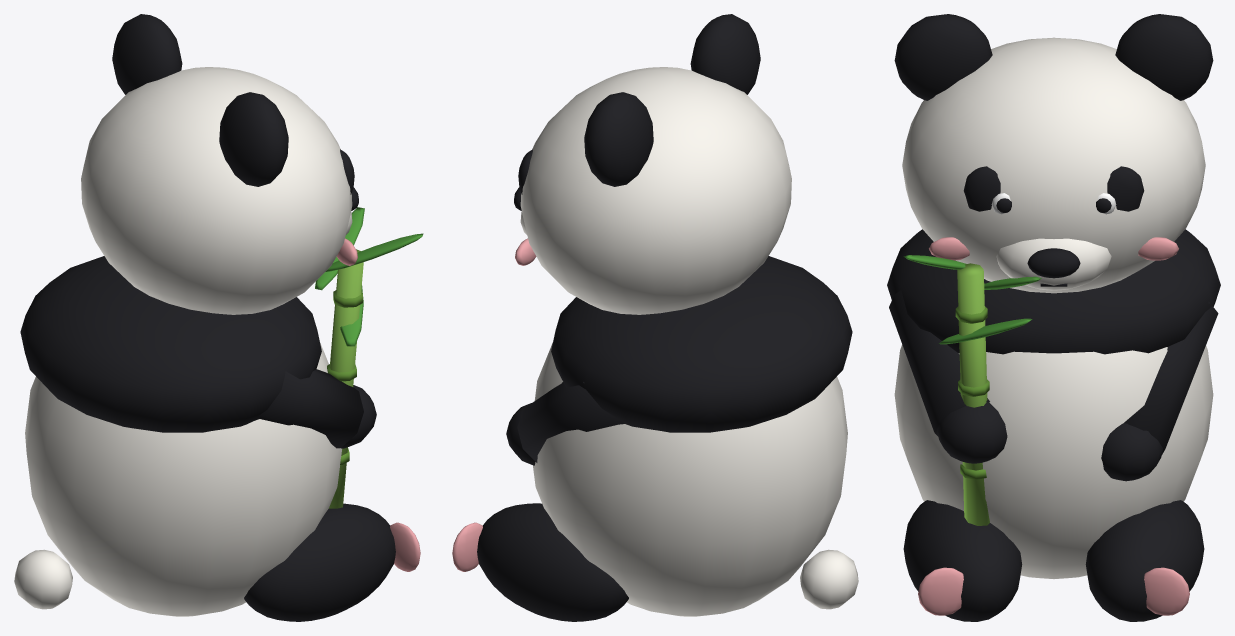
File: giant-panda.glb
3 renders of one model, left to right at view 1: azimuth 30°, elevation 25°; view 2: azimuth 150°, elevation 25°; view 3: azimuth 270°, elevation 25°, orthographic. The views are drawn at different scales.
Parts seen in each view (by area): view 1: belly, skull, shoulders, leg_-1, ear_-1, arm_r, ear_1, tail, bamboo, pad_-1, leaf_1, paw_r (+2 smaller); view 2: belly, skull, shoulders, leg_1, ear_1, ear_-1, arm_l, tail, pad_1, paw_l; view 3: skull, belly, shoulders, leg_1, leg_-1, ear_1, ear_-1, arm_r, arm_l, bamboo, muzzle, paw_r (+12 smaller).
Boxes of the visible parts, x1,y1,x2,y2 form: belly: (25, 342, 341, 616); skull: (81, 67, 352, 314); shoulders: (20, 256, 321, 432); leg_-1: (244, 503, 395, 621); ear_-1: (219, 92, 288, 186); arm_r: (259, 369, 363, 448); ear_1: (112, 14, 182, 94); tail: (14, 549, 72, 609); bamboo: (329, 249, 363, 508); pad_-1: (390, 522, 420, 571); leaf_1: (325, 233, 423, 271); paw_r: (340, 385, 376, 448); belly: (533, 342, 847, 616); skull: (520, 67, 791, 314); shoulders: (551, 256, 852, 432); leg_1: (477, 503, 628, 621); ear_1: (584, 92, 653, 186); ear_-1: (690, 14, 760, 94); arm_l: (517, 382, 624, 462); tail: (800, 549, 858, 609); pad_1: (452, 522, 482, 571); paw_l: (506, 403, 535, 465); skull: (902, 37, 1205, 293); belly: (894, 344, 1213, 579); shoulders: (887, 229, 1220, 354); leg_1: (1085, 500, 1204, 621); leg_-1: (903, 500, 1022, 621); ear_1: (1115, 14, 1213, 100); ear_-1: (894, 14, 992, 100); arm_r: (889, 290, 989, 436); arm_l: (1124, 302, 1218, 454); bamboo: (957, 263, 989, 525); muzzle: (996, 238, 1111, 290); paw_r: (937, 402, 1007, 463).
Size of the model in its own units: 1.06 by 1.63 by 0.88.
